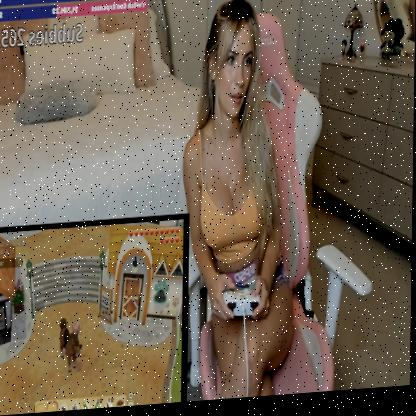streamer: (180, 0, 299, 405)
